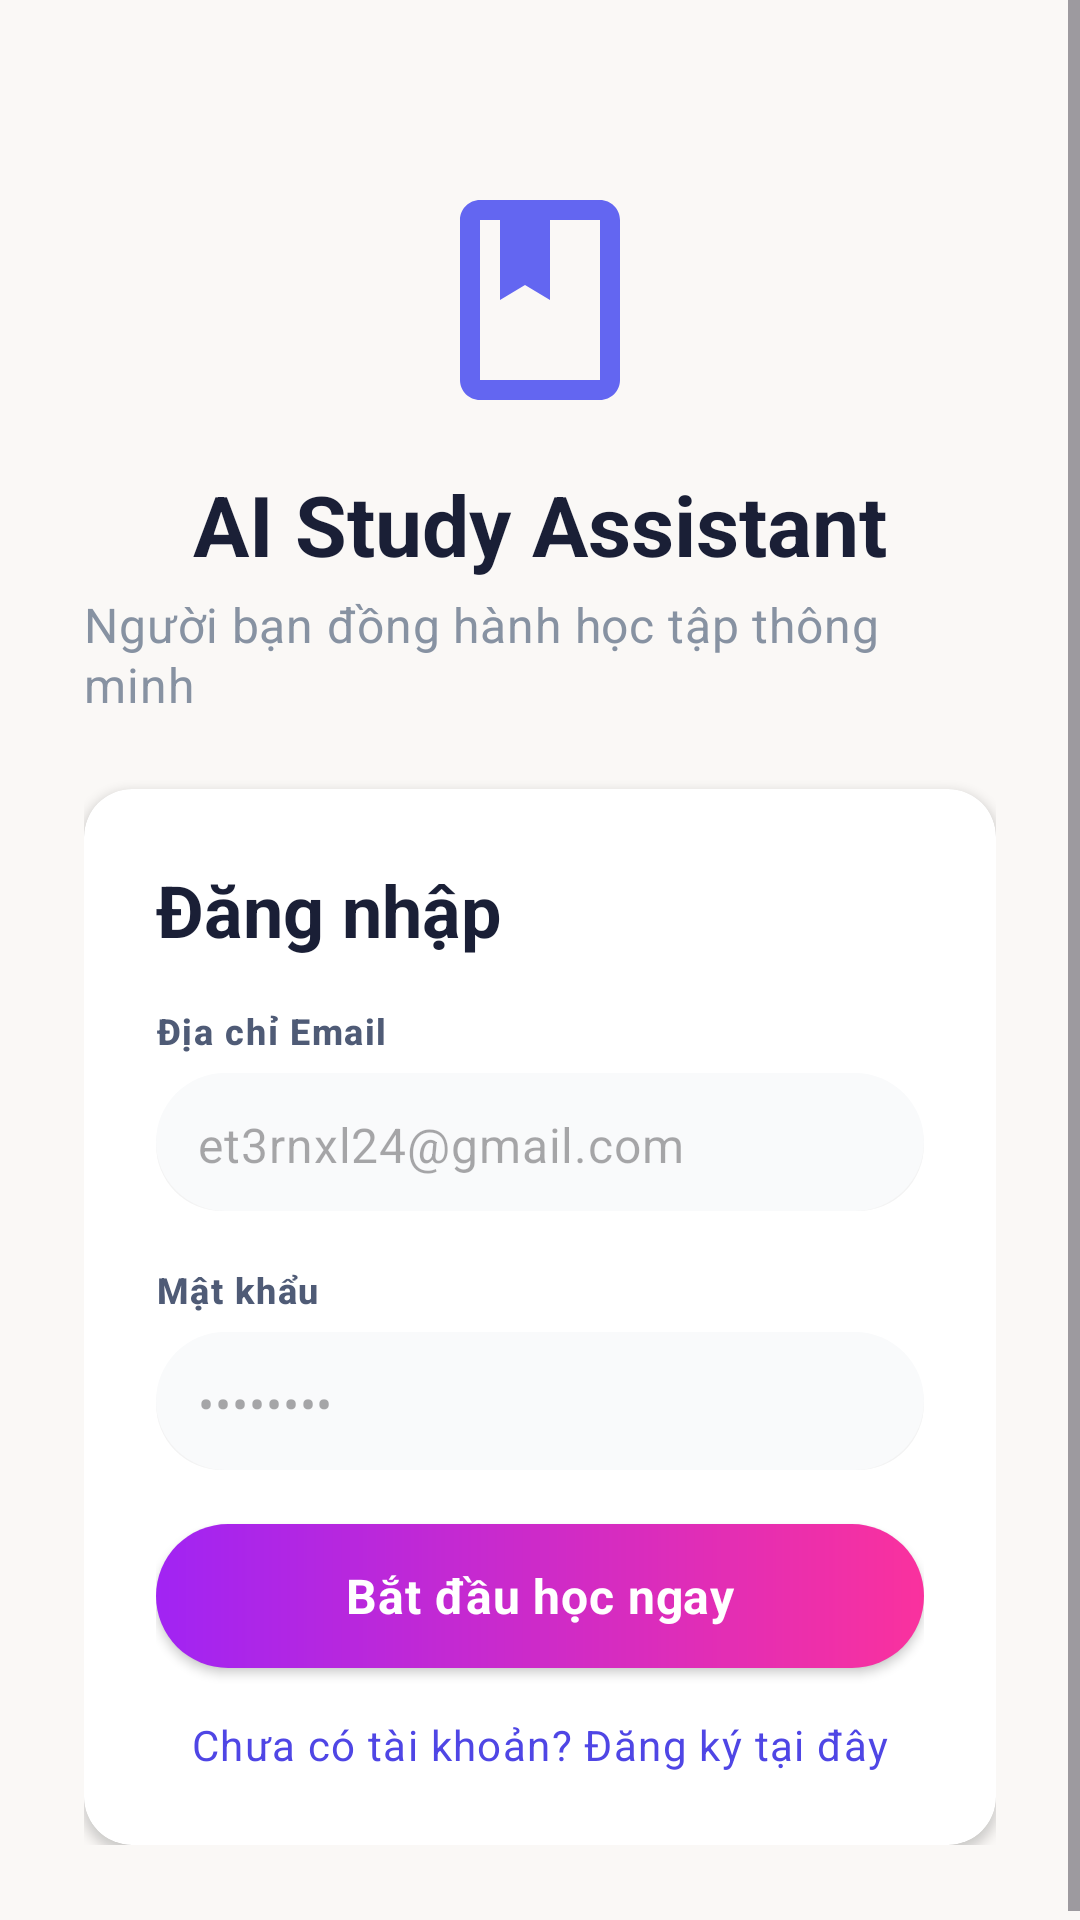

Screen size 1080*1920. Icon name, then its center in pixels as point (x, y):
book: point (540, 300)
